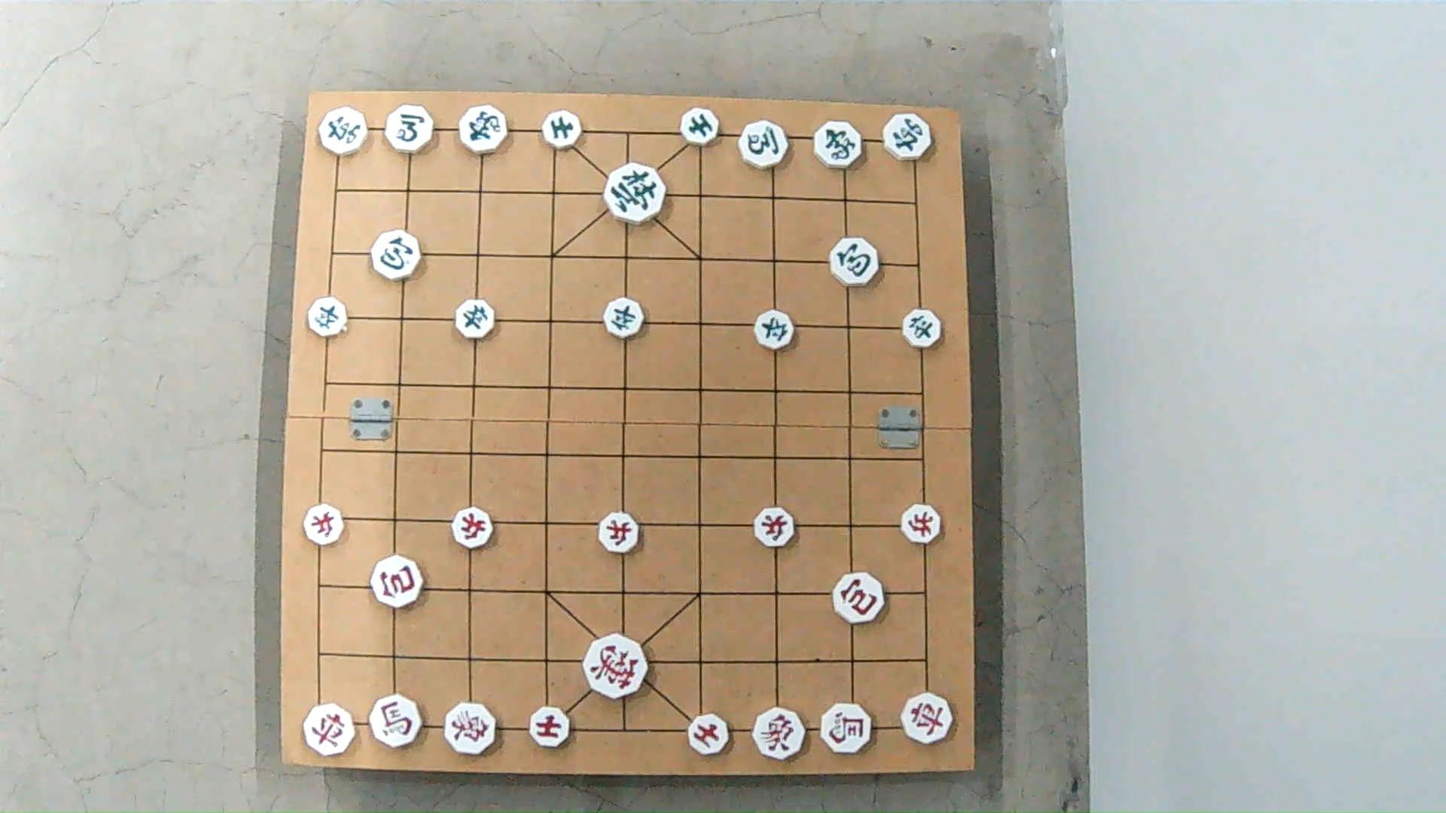cha_green: (317, 106, 370, 155), (883, 114, 932, 160)
cha_red: (304, 705, 357, 755), (901, 695, 953, 742)
jol_green: (755, 311, 798, 349), (455, 301, 497, 339), (606, 300, 647, 337), (904, 311, 944, 347), (308, 300, 348, 336)
jol_red: (452, 510, 495, 550), (304, 507, 345, 547), (756, 509, 798, 548), (599, 516, 642, 554), (903, 508, 944, 546)
ma_green: (738, 120, 792, 169), (383, 107, 433, 152)
ma_red: (369, 696, 429, 748), (822, 699, 871, 753)
po_green: (373, 233, 423, 281), (832, 239, 882, 285)
po_red: (834, 575, 886, 625), (374, 558, 426, 607)
sa_green: (541, 113, 583, 149), (682, 111, 722, 145)
sa_red: (527, 705, 572, 745), (688, 713, 731, 754)
sang_green: (811, 120, 866, 170), (456, 105, 508, 154)
sang_red: (750, 705, 807, 760), (446, 703, 500, 753)
wang_green: (606, 165, 668, 221)
wang_red: (585, 638, 649, 698)
